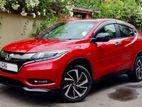car: (0, 18, 141, 101)
